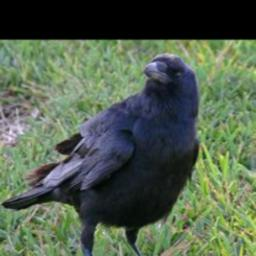Crow: (0, 52, 199, 256)
